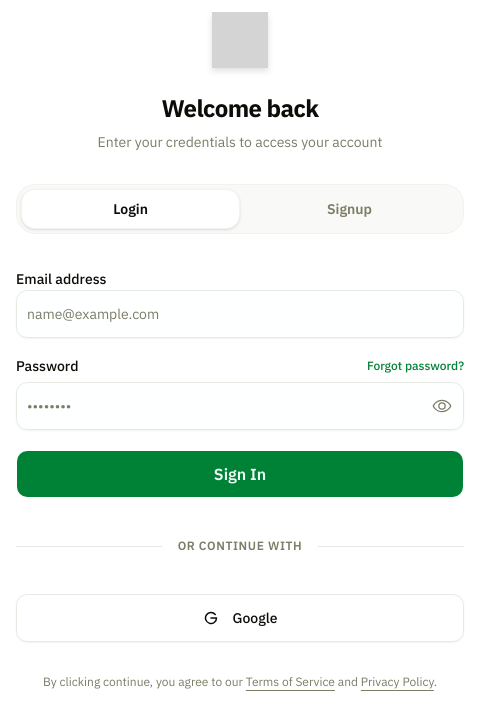
Test case: AuthForm Component › navigates back from forgot to login mode
Click the button "Forgot password?". click: (416, 366)
box: [367,358,464,374]
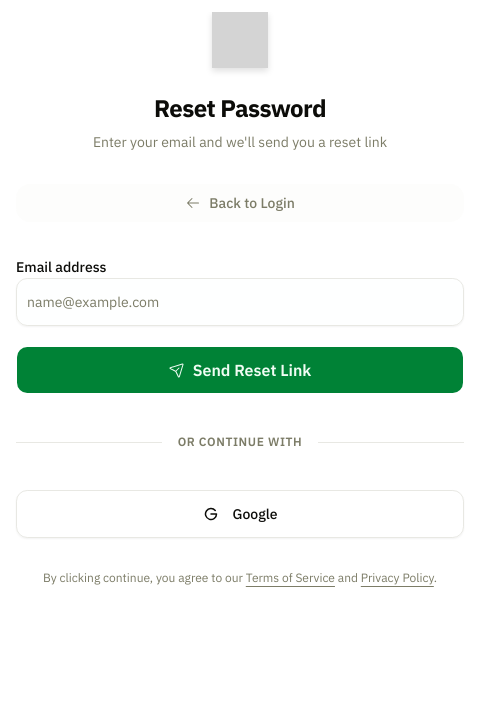
Result: the heading "Reset Password" is shown at [154,92,326,124]
Click the button "Back to Login". click: (240, 203)
box: [16,184,464,222]
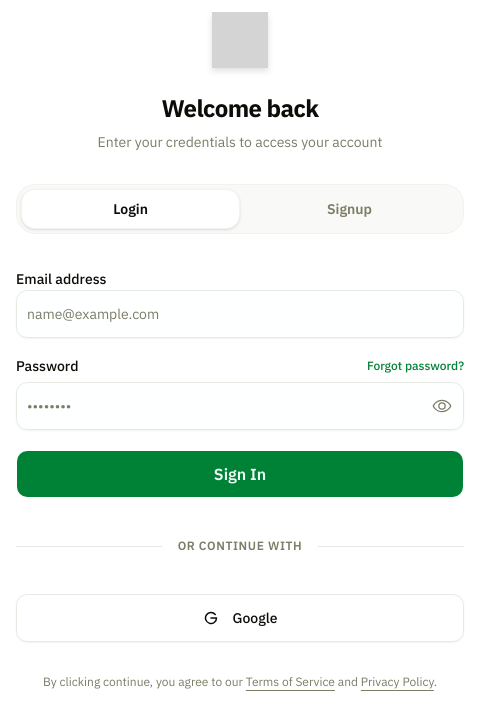
Result: the heading "Welcome back" is shown at [161,92,319,124]
